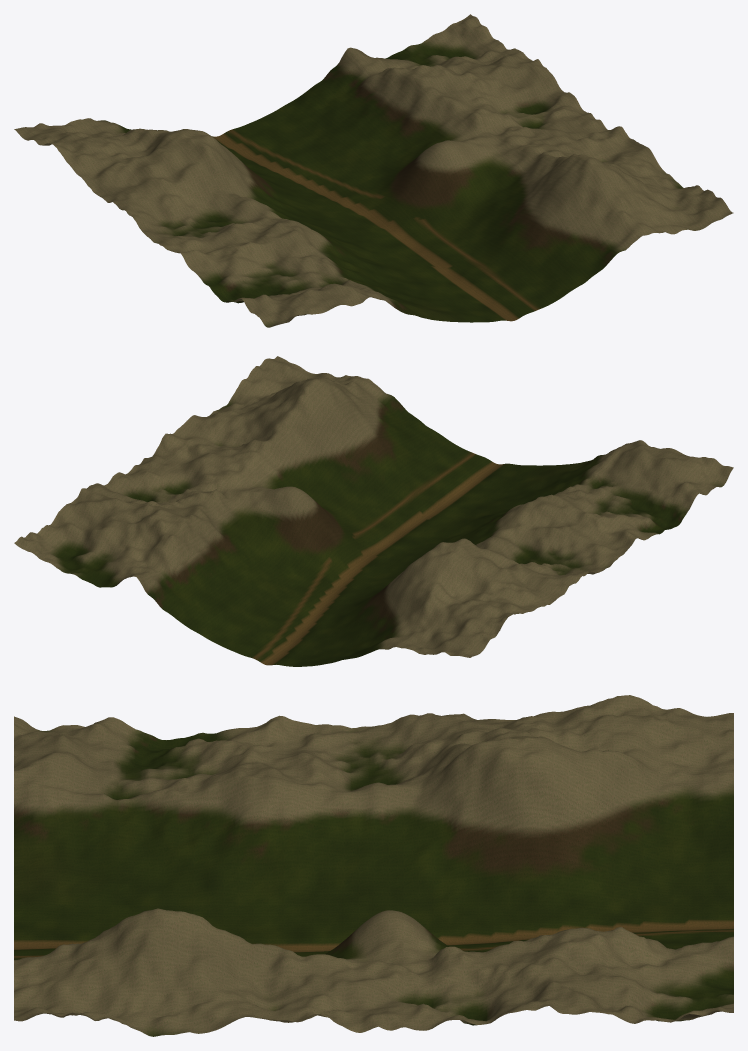
Rendered from valley-terrain-v2.glb.
3 renders of one model, top to bottom at view 1: azimuth 30°, elevation 25°; view 2: azimuth 150°, elevation 25°; view 3: azimuth 270°, elevation 25°, orthographic. The views are drawn at different scales.
Visible parts, largest first — view 1: ValleyTerrain; view 2: ValleyTerrain; view 3: ValleyTerrain.
Boxes of the visible parts, x1,y1,x2,y2 form: ValleyTerrain: (14,14,733,327); ValleyTerrain: (14,356,733,666); ValleyTerrain: (14,695,733,1036).
Size of the model in its own units: 1700 by 330 by 1700.
1 material, 1 textured.
